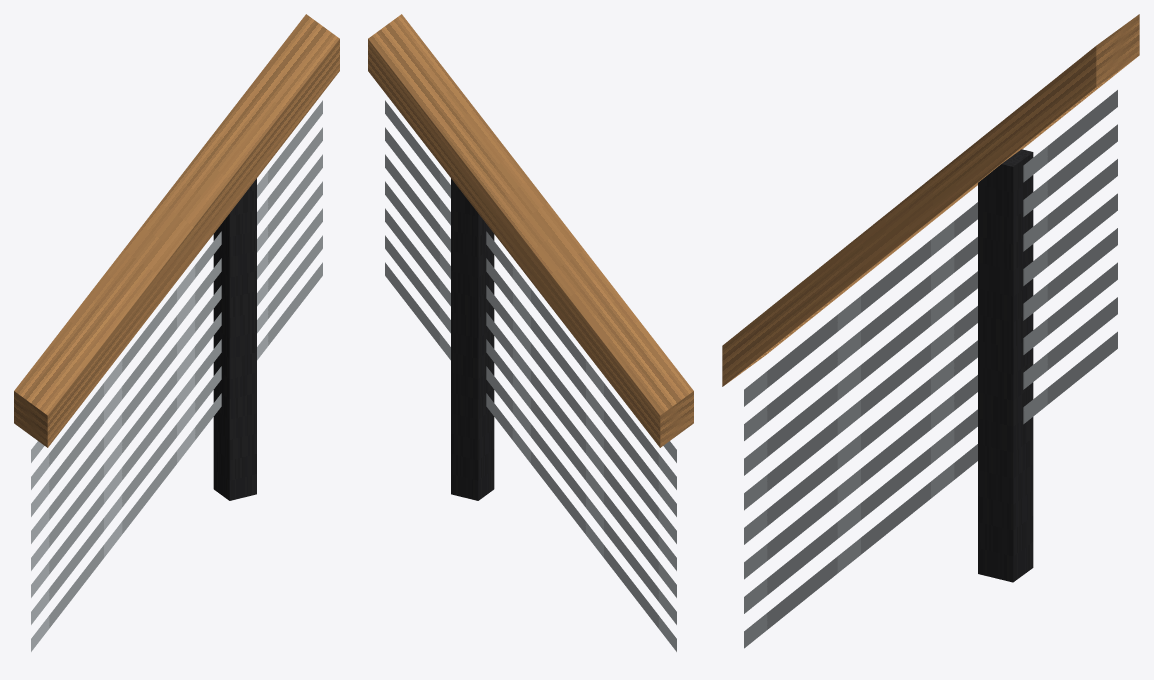
File: mid_pos.obj
3 renders of one model, left to right at view 1: azimuth 30°, elevation 25°; view 2: azimuth 150°, elevation 25°; view 3: azimuth 330°, elevation 25°, orthographic. The views are drawn at different scales.
Parts seen in each view (by area): view 1: railing_cable_black_oak_mid_pos; view 2: railing_cable_black_oak_mid_pos; view 3: railing_cable_black_oak_mid_pos.
Part boxes in pixels (<box>): railing_cable_black_oak_mid_pos: <box>14,14,339,651</box>; railing_cable_black_oak_mid_pos: <box>368,14,693,651</box>; railing_cable_black_oak_mid_pos: <box>722,14,1139,648</box>.
Bounding box in the file's own units: 1 × 1.86 × 0.2.
